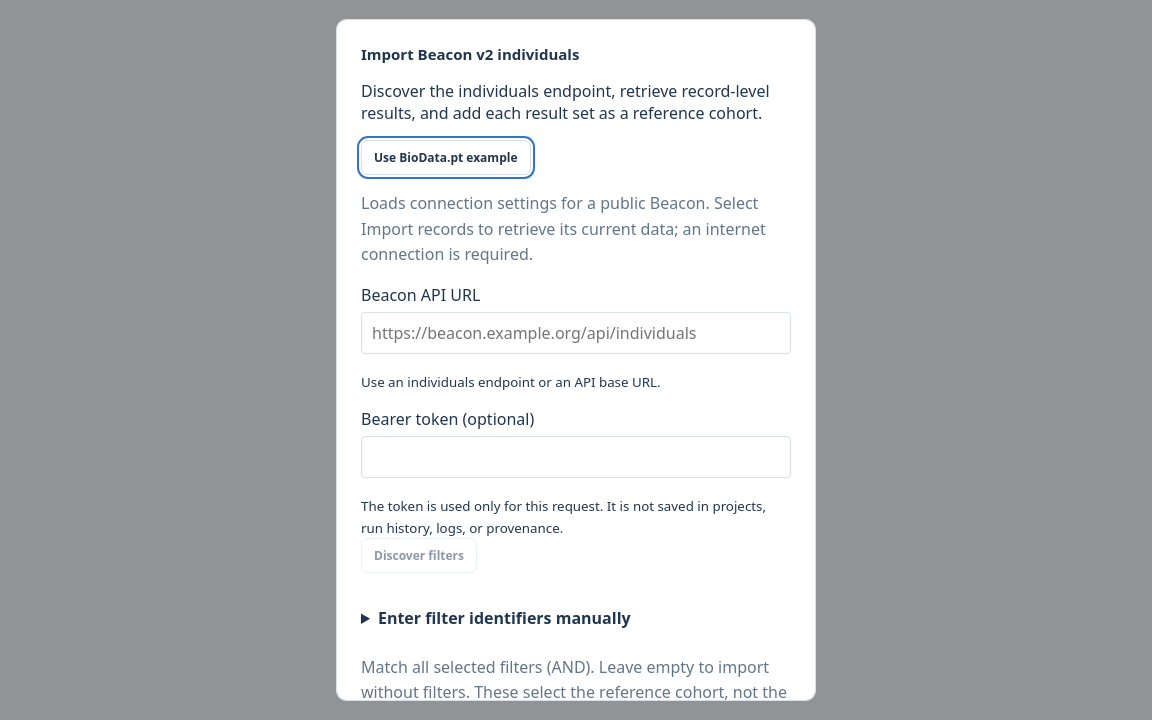
it: Beacon import › keeps validation failures in the dialog
In the field labelled "Beacon API URL": (576, 333) [361,312,791,354], type "https://beacon.example/api"
(page scrolled)
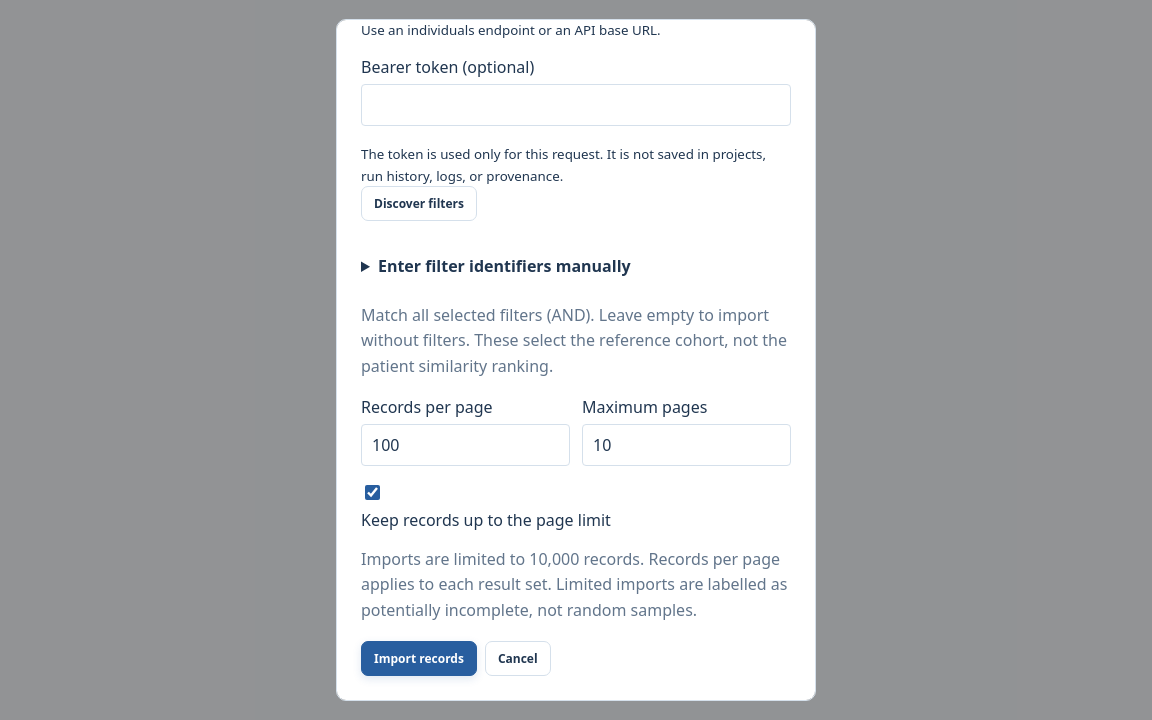
Click the button "Import records": click(419, 659) [361,641,477,676]
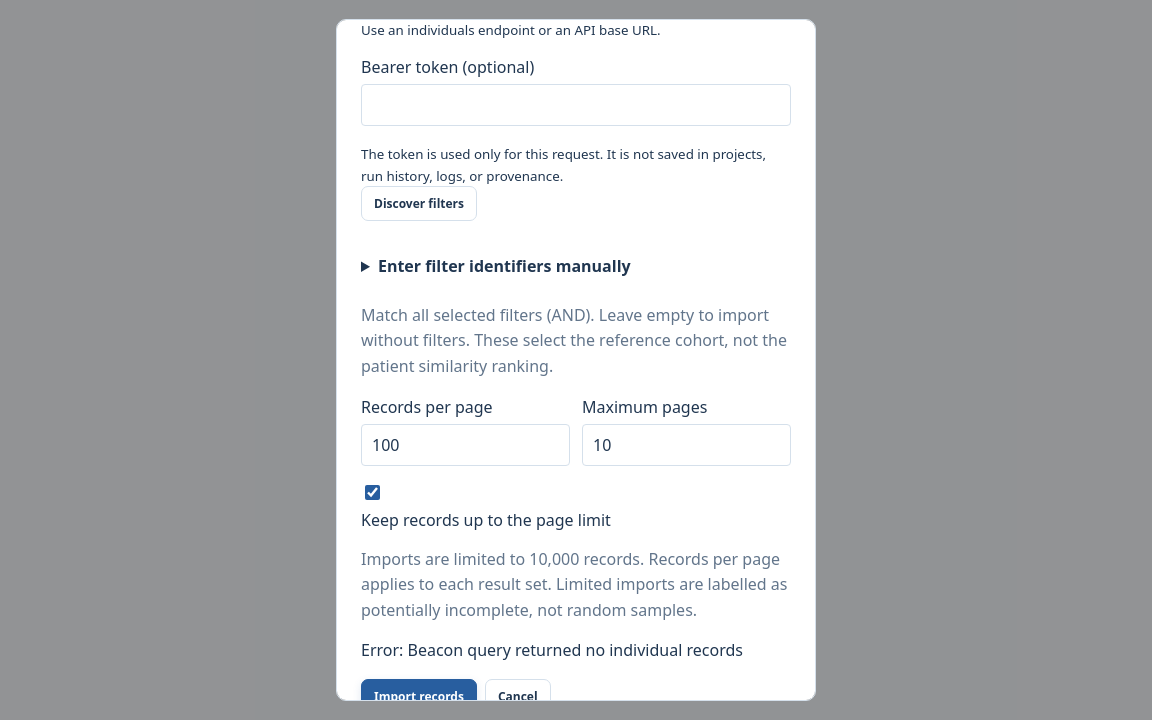
Expected: the message shows "no individual records", [361,639,743,661]
